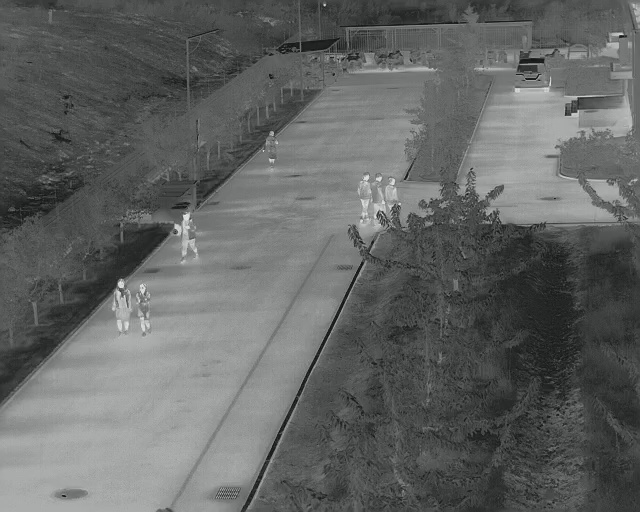person: (109, 277, 133, 338), (178, 210, 199, 265), (133, 282, 154, 337), (357, 171, 372, 225), (262, 130, 280, 171), (369, 170, 385, 213), (385, 176, 403, 207)
vehicle: (513, 56, 553, 99)
